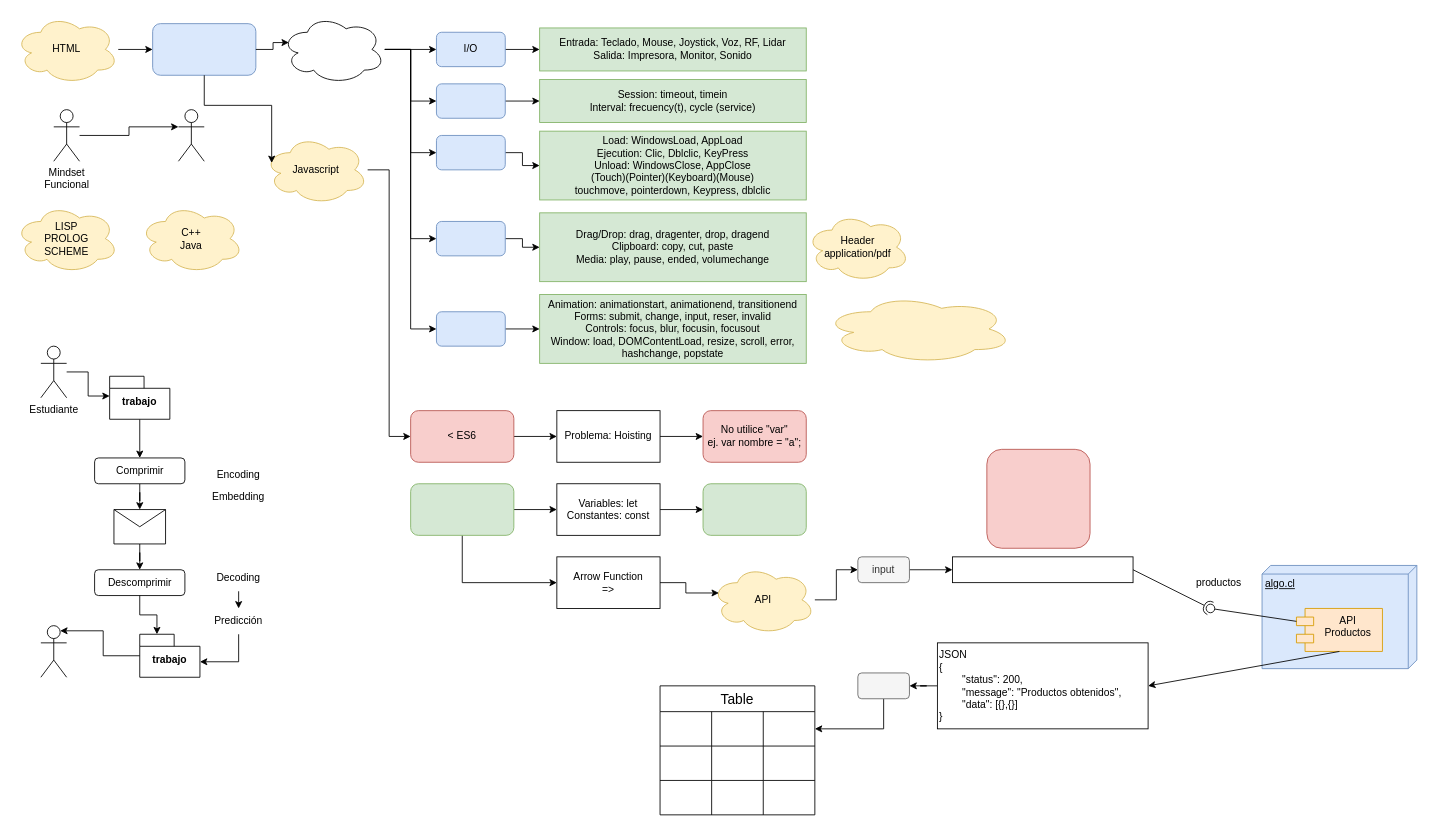
Some shapes in this 1432 by 830 pixel diagram are drawn without their labels. Each missing label, with the box of its shape:
Browser: (436, 311, 505, 346)
ES6 +: (410, 483, 514, 535)
GET https://algo.cl/api/productos: (952, 556, 1133, 583)
HTTP METHOD GET (Select) POST (All-Insert) PUT (Update) DELETE: (986, 448, 1090, 548)
Interaction: (436, 135, 505, 170)
let nombre = "a"; const PI = 3.14;: (702, 483, 806, 535)
Mindset Oriented Object: (178, 109, 204, 161)
Netscape: (152, 23, 256, 75)
output: (857, 672, 909, 699)
Profesor: (40, 625, 67, 677)
RequiredFieldValidator: (823, 294, 1013, 363)
S.O.: (436, 221, 505, 256)
Timer: (436, 83, 505, 118)
¿Eventos?: (281, 14, 385, 84)
